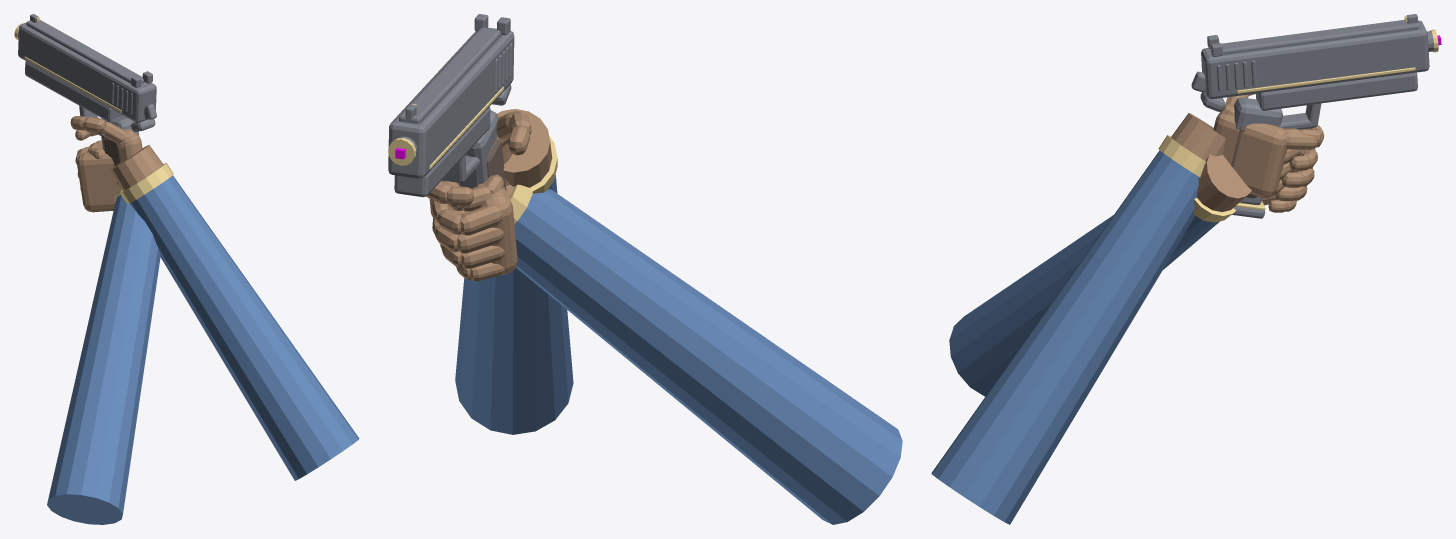
Rendered from FlyHigh_PistolVM.fbx.
3 renders of one model, left to right at view 1: azimuth 30°, elevation 25°; view 2: azimuth 150°, elevation 25°; view 3: azimuth 270°, elevation 25°, orthographic. The views are drawn at different scales.
Parts seen in each view (by area): view 1: PistolVM_Sleeve, Pistol_Steel, PistolVM_Glove, PistolVM_Cuff, Pistol_Gold; view 2: PistolVM_Sleeve, Pistol_Steel, PistolVM_Glove, PistolVM_Cuff, Pistol_Gold; view 3: PistolVM_Sleeve, Pistol_Steel, PistolVM_Glove, PistolVM_Cuff, Pistol_Gold.
Boxes of the visible parts, box(x1,y1,x2,y2) form: PistolVM_Sleeve: box(47, 175, 359, 524); Pistol_Steel: box(17, 14, 156, 149); PistolVM_Glove: box(70, 116, 163, 212); PistolVM_Cuff: box(114, 163, 173, 203); Pistol_Gold: box(14, 17, 121, 112); PistolVM_Sleeve: box(455, 175, 902, 524); Pistol_Steel: box(388, 14, 514, 197); PistolVM_Glove: box(427, 109, 552, 281); PistolVM_Cuff: box(509, 136, 557, 223); Pistol_Gold: box(388, 87, 503, 169); PistolVM_Sleeve: box(931, 150, 1219, 524); Pistol_Steel: box(1191, 14, 1433, 218); PistolVM_Glove: box(1171, 93, 1324, 212); PistolVM_Cuff: box(1158, 135, 1236, 222); Pistol_Gold: box(1235, 15, 1438, 210).
Bounding box in the file's own units: 1.14 × 1.34 × 1.39.
